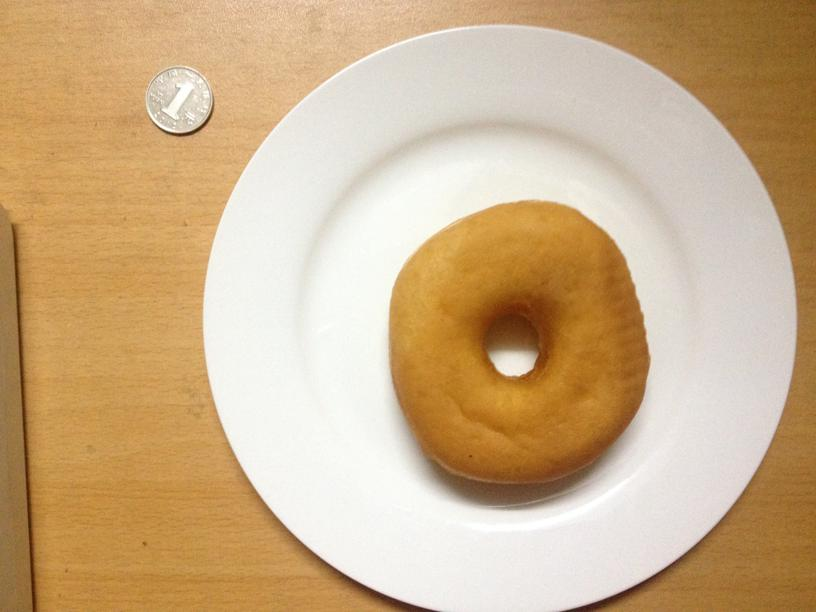coin: (146, 68, 213, 134)
doughnut: (386, 199, 653, 488)
